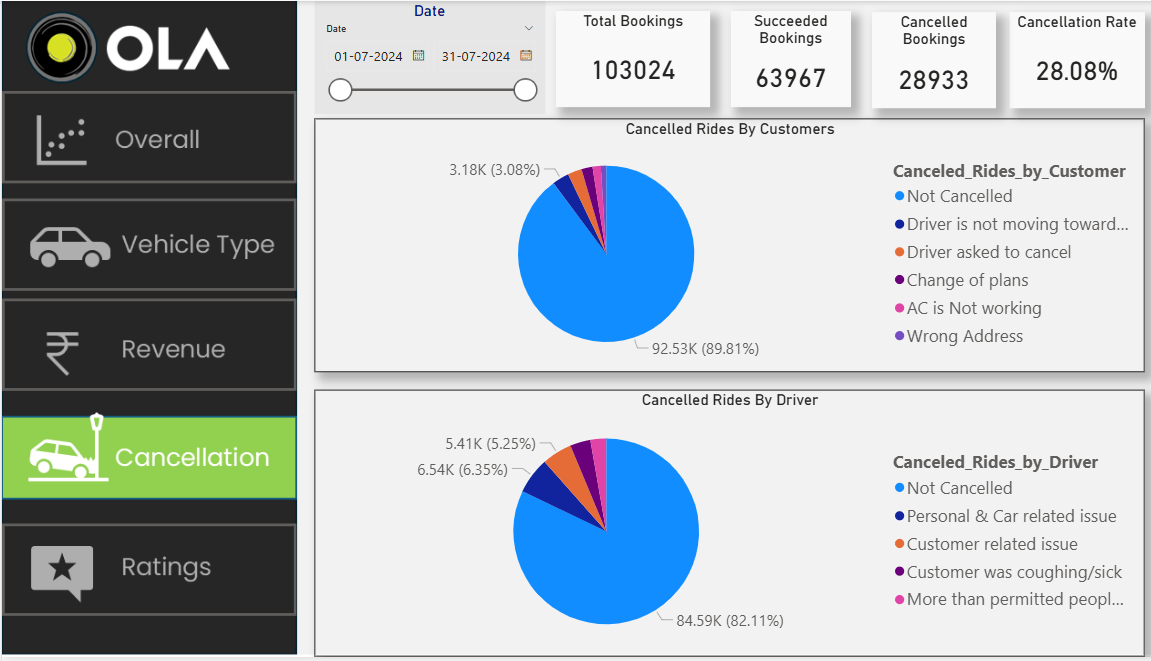

Layout of this report page (visuals, bound fields, positions):
{"tool":"powerbi","page":{"name":"Cancellation","canvas":[1280,720],"ordinal":3},"visuals":[{"type":"actionButton","box":[0,217.2,323.3,101.3],"z":0},{"type":"actionButton","box":[0,326.9,323.3,101.3],"z":1000},{"type":"actionButton","box":[0,574.3,323.3,101.3],"z":2000},{"type":"actionButton","box":[0,98.9,323.3,101.3],"z":3000},{"type":"pieChart","title":"Cancelled Rides By Customers","fields":{"Category":["Bookings_Cleaned.Canceled_Rides_by_Customer"],"Y":["CountNonNull(Bookings_Cleaned.Canceled_Rides_by_Customer)"]},"box":[343,128.6,911.2,278.7],"z":4000},{"type":"pieChart","title":"Cancelled Rides By Driver","fields":{"Category":["Bookings_Cleaned.Canceled_Rides_by_Driver"],"Y":["CountNonNull(Bookings_Cleaned.Canceled_Rides_by_Driver)"]},"box":[343,427.3,911.2,292.5],"z":5000},{"type":"slicer","title":"Date","fields":{"Values":["Bookings_Cleaned.Date"]},"box":[343,0,252.7,124],"z":6000},{"type":"card","title":"Total Bookings","fields":{"Values":["Count(Bookings_Cleaned.Booking_ID)"]},"box":[608,10.7,170,105.7],"z":7000},{"type":"card","title":"Succeeded Bookings","fields":{"Values":["Count(Bookings_Cleaned.Booking_ID)"]},"box":[799.4,10.7,131.7,105.7],"z":8000},{"type":"card","title":"Cancelled Bookings","fields":{"Values":["Count(Bookings_Cleaned.Booking_ID)"]},"box":[955.6,12.3,136.3,105.7],"z":9000},{"type":"card","title":"Cancellation Rate","fields":{"Values":["Bookings_Cleaned.CanceledPercentage"]},"box":[1105.7,12.3,148.6,105.7],"z":10000}]}

Visuals, with their boxes on the page's 1280x720 design canvas (x1, y1, x2, y2). These are canvas units, not pixel positions in the 1151x661 screenshot, which may show the page scaled, cropped or inside an application window:
actionButton: 0/217/323/318
actionButton: 0/327/323/428
actionButton: 0/574/323/676
actionButton: 0/99/323/200
"Cancelled Rides By Customers" pieChart: 343/129/1254/407
"Cancelled Rides By Driver" pieChart: 343/427/1254/720
"Date" slicer: 343/0/596/124
"Total Bookings" card: 608/11/778/116
"Succeeded Bookings" card: 799/11/931/116
"Cancelled Bookings" card: 956/12/1092/118
"Cancellation Rate" card: 1106/12/1254/118
